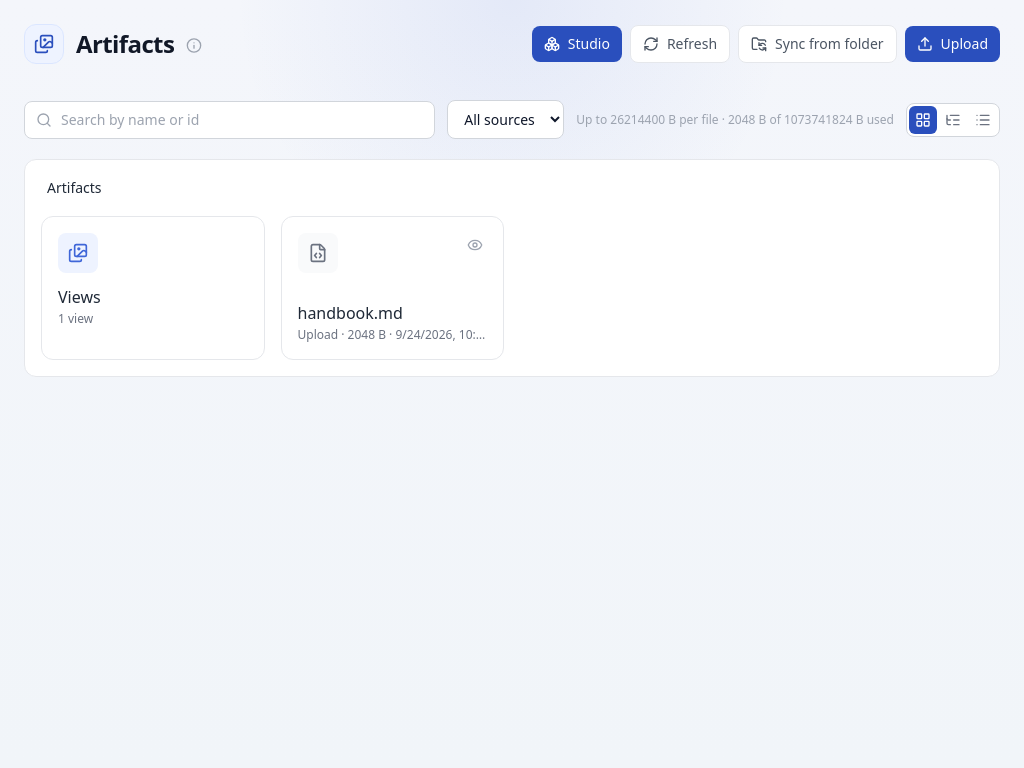
Artifacts page › opens the rendered file from a tree row without opening the panel
Expected: the text "handbook.md" is shown, [298,302,403,324]
Click the button named "Tree".
click(953, 120)  # box [939,106,967,134]
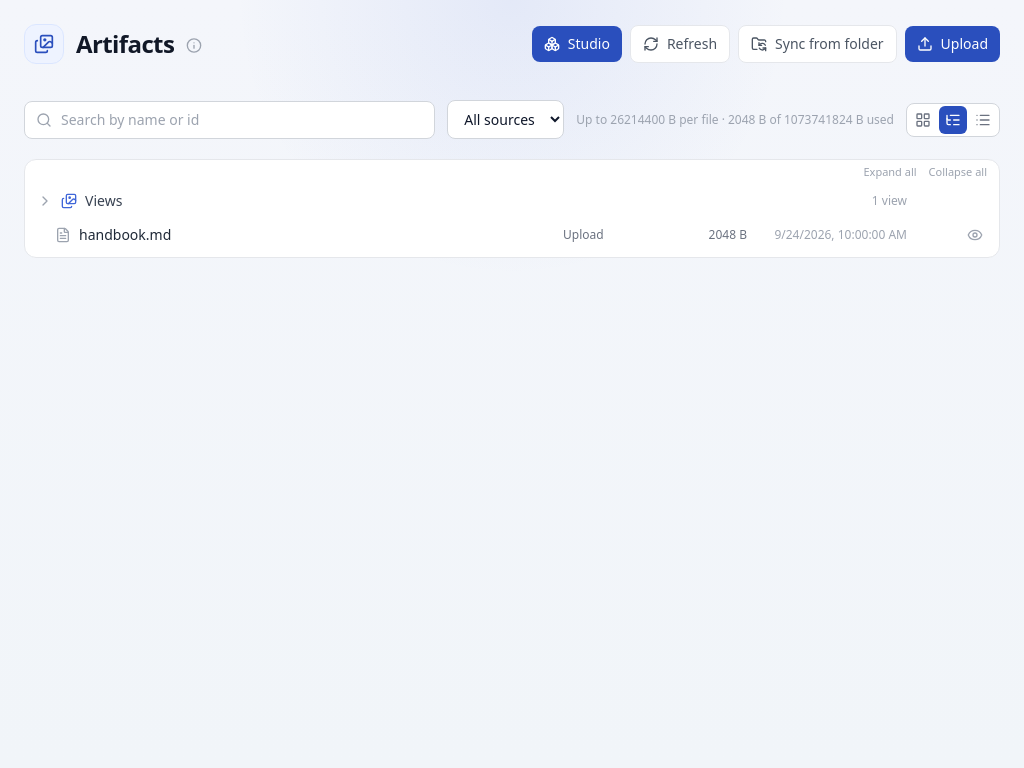
Click the button named "Preview".
click(975, 234)  # box [963,222,987,246]
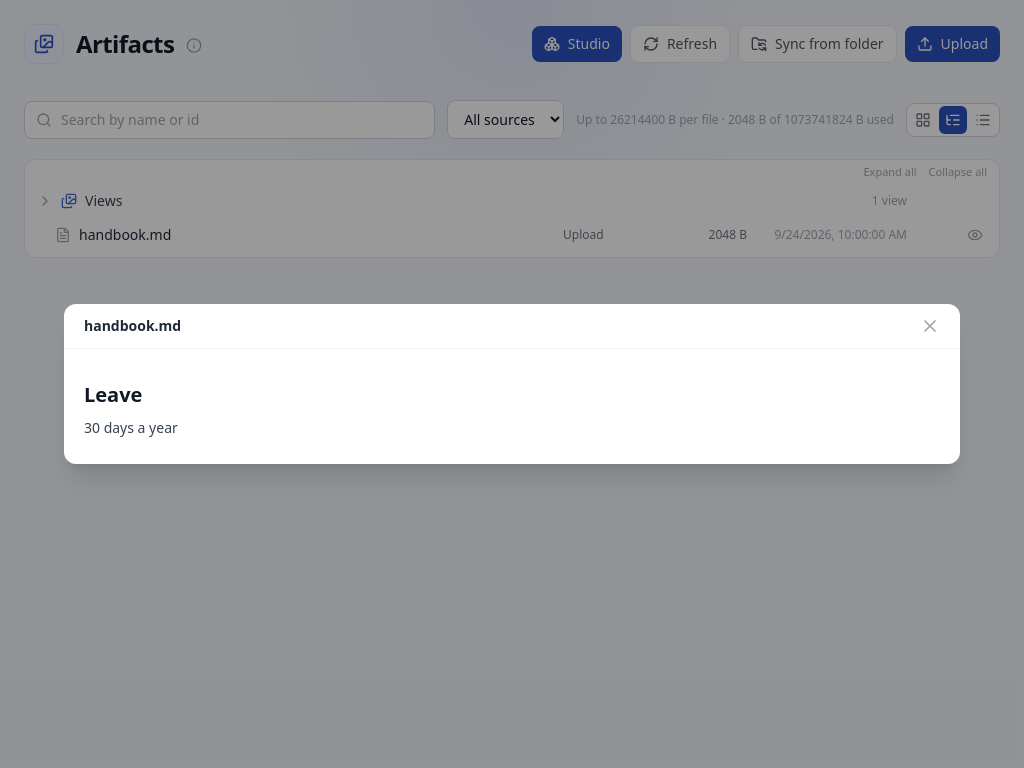
Expected: the dialog with test id "file-preview-modal" shows "30 days a year", [84,418,178,437]
